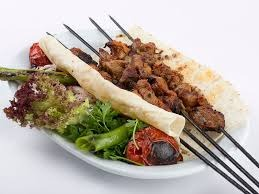kebap: (97, 38, 224, 131), (133, 79, 169, 110), (186, 104, 224, 131)
